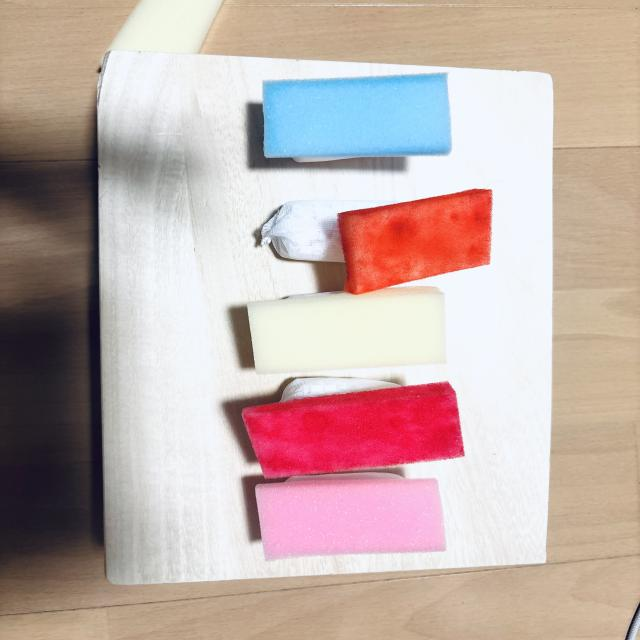NG: (262, 189, 492, 294), (242, 377, 465, 478)
ika: (263, 73, 451, 162)
tai: (256, 474, 446, 560)
tamago: (248, 287, 446, 374)
